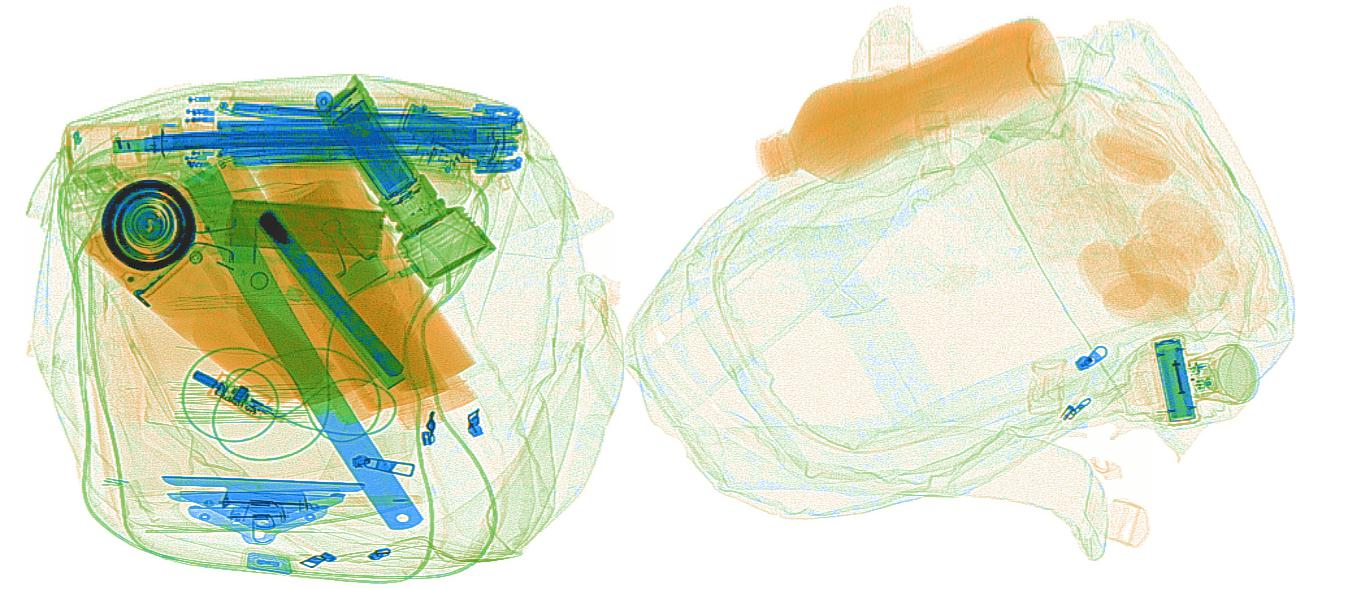battery: (330, 98, 418, 200), (399, 102, 489, 162), (1153, 337, 1197, 424)
